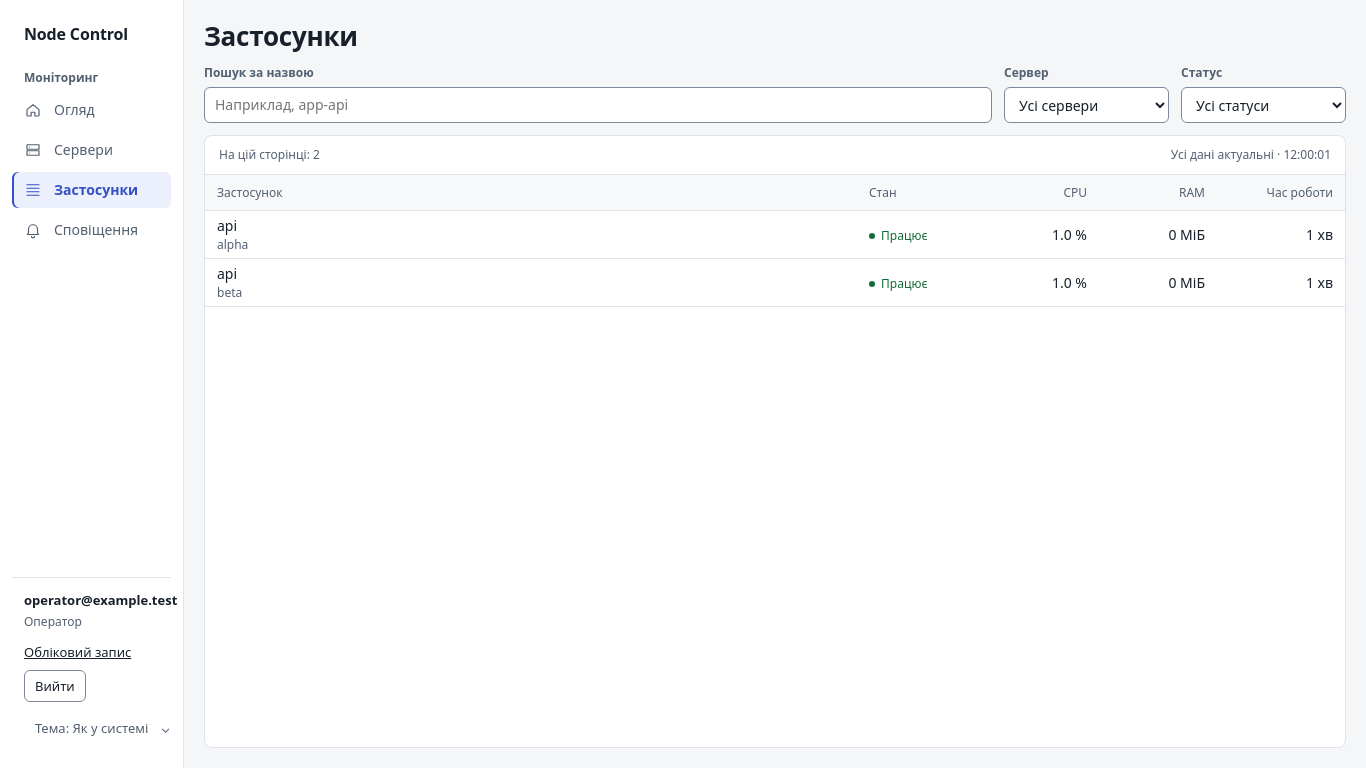
workspace: list and details side by side (≥1280 px) › overview is the first tab and reads nothing extra (no log read, no history); PM2 id, mode, restarts total, exact collection time
The image size is (1366, 768).
Step 1. Click the button "api alpha Працює 1.0 % 0 МіБ 1 хв" → (233, 244), box [205,211,1345,258]
(page scrolled)
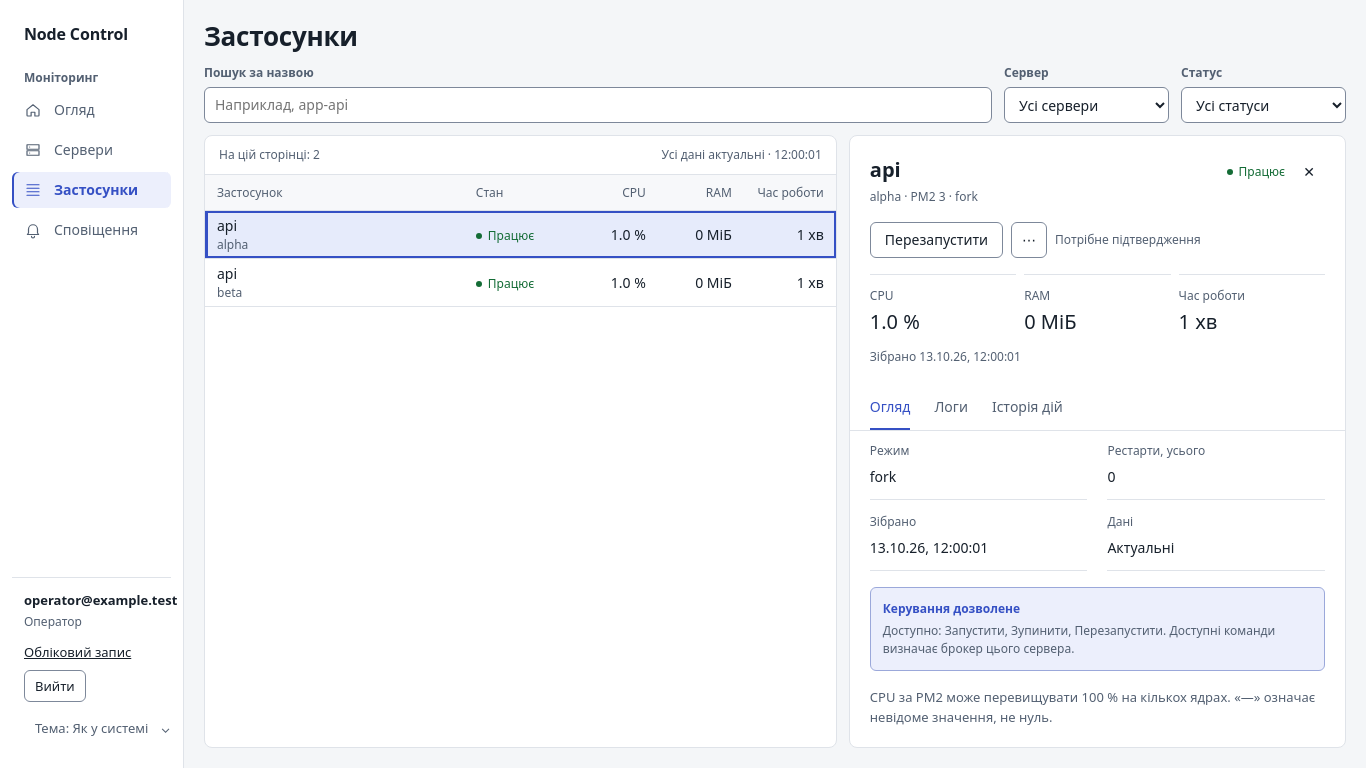
Result: the text "Рестарти, усього" is shown at [1107,442,1205,459]
Result: the text "Режим" is shown at [870,442,910,459]
Result: the text "Зібрано" is shown at [870,513,916,530]
